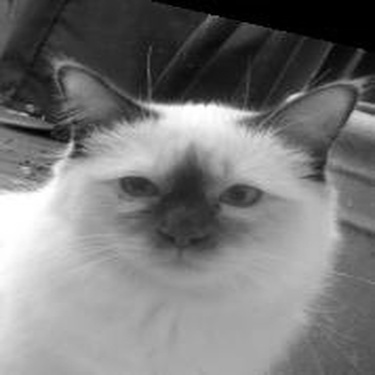cat: (5, 56, 363, 372)
